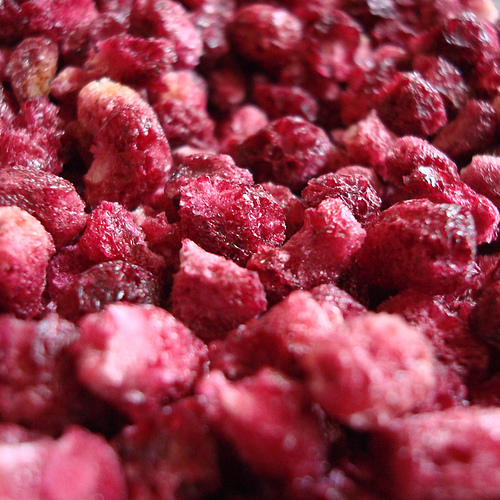pomogranate: (2, 0, 498, 498)
